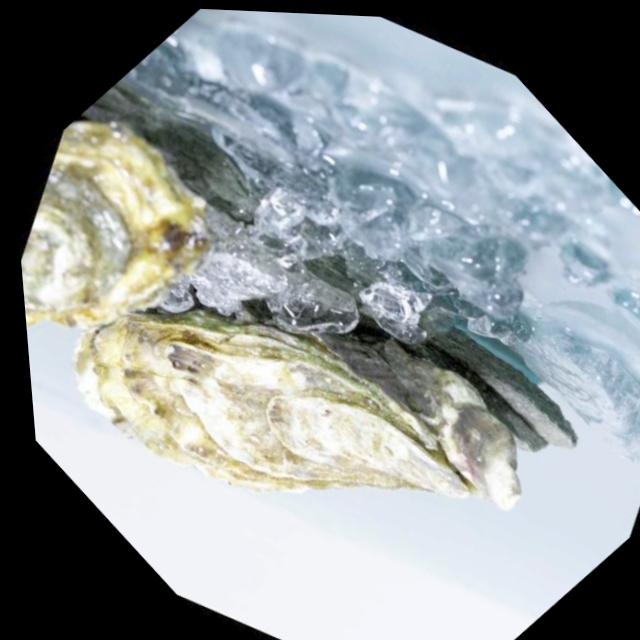Oyster-Closed: (22, 121, 210, 327)
Oyster-Indeterminate: (76, 311, 521, 510)
